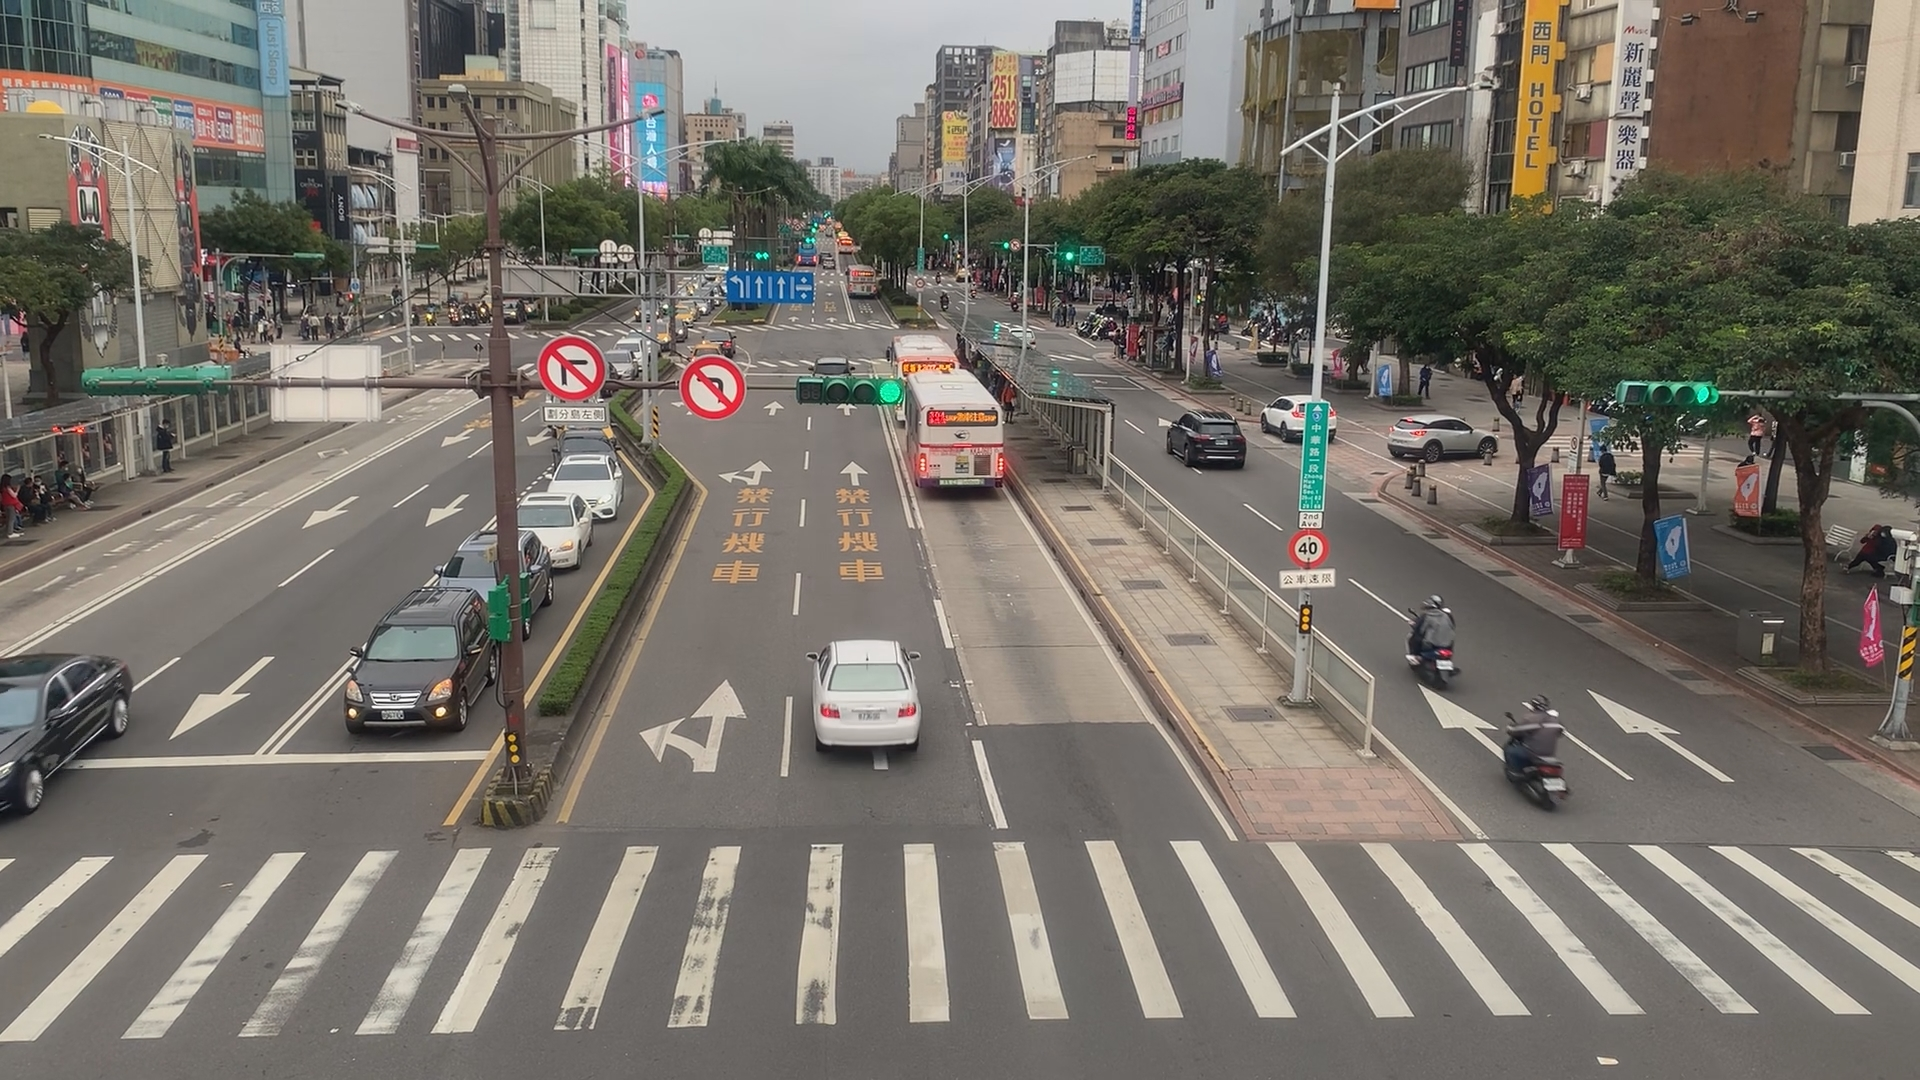Bus: (903, 371, 1011, 491), (884, 328, 971, 414), (843, 258, 886, 313)
Motorcycle: (1507, 684, 1569, 811), (1407, 584, 1468, 683)
Private Passenger Car: (340, 589, 504, 741), (1, 655, 137, 814), (798, 626, 924, 745), (436, 527, 551, 642), (1373, 393, 1510, 477), (1162, 398, 1255, 479), (512, 492, 597, 576), (1253, 381, 1336, 454), (541, 455, 621, 520), (795, 349, 872, 413), (551, 426, 621, 491), (595, 345, 637, 385), (1007, 324, 1043, 353)
